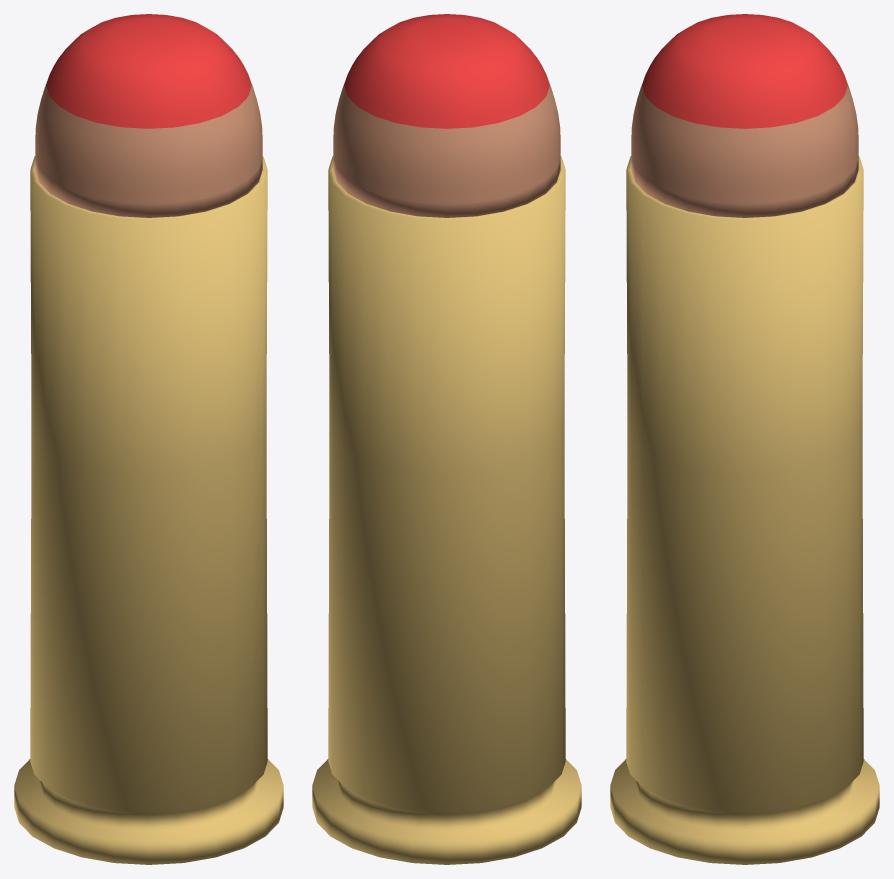
3 views of the same model, side by side, from view 1: azimuth 30°, elevation 25°; view 2: azimuth 150°, elevation 25°; view 3: azimuth 270°, elevation 25° (orthographic).
Visible parts, largest first — view 1: vaina, bala_cuerpo, punta; view 2: vaina, bala_cuerpo, punta; view 3: vaina, bala_cuerpo, punta.
Boxes of the visible parts, x1,y1,x2,y2 form: vaina: (14, 156, 283, 864); bala_cuerpo: (35, 77, 262, 217); punta: (46, 14, 251, 128); vaina: (312, 156, 581, 864); bala_cuerpo: (333, 77, 560, 217); punta: (344, 14, 549, 128); vaina: (610, 156, 879, 864); bala_cuerpo: (631, 77, 858, 217); punta: (642, 14, 847, 128).
Size of the model in its own units: 0.0136 by 0.0432 by 0.0136.
